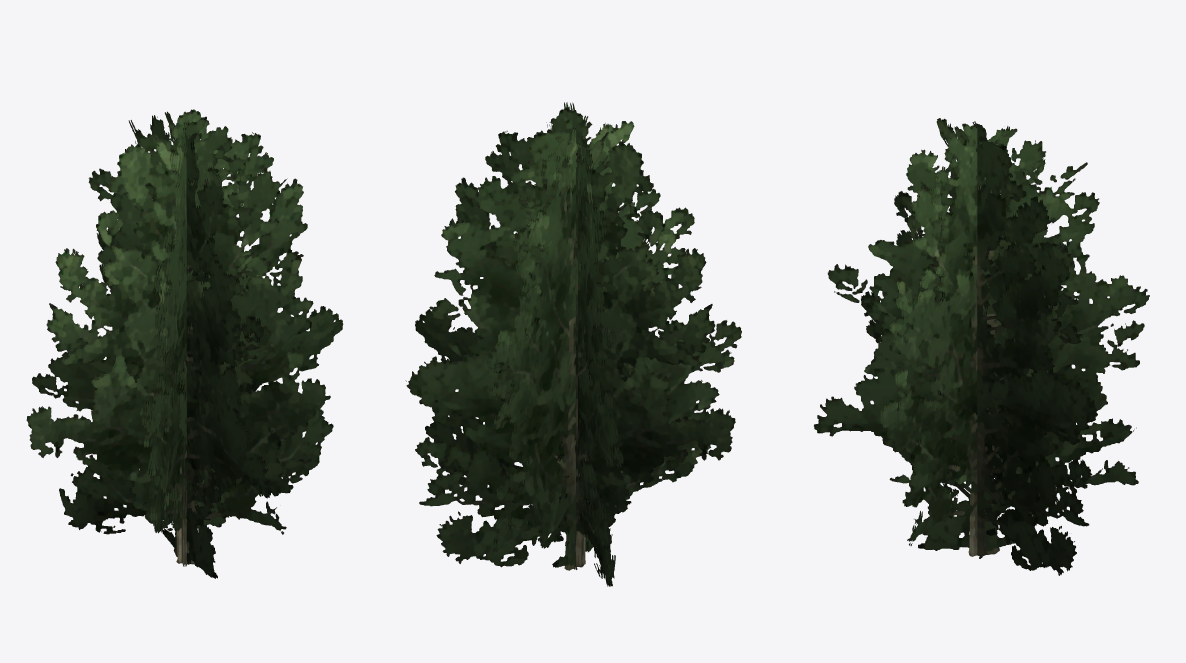
Rendered from Sce_bf_tree02.fbx.
3 renders of one model, left to right at view 1: azimuth 30°, elevation 25°; view 2: azimuth 150°, elevation 25°; view 3: azimuth 270°, elevation 25°, orthographic. The views are drawn at different scales.
Parts seen in each view (by area): view 1: tree02; view 2: tree02; view 3: tree02.
Boxes of the visible parts, left/top/right/bottom form: tree02: left=26, top=109, right=343, bottom=578; tree02: left=405, top=102, right=741, bottom=586; tree02: left=814, top=118, right=1149, bottom=575.
Size of the model in its own units: 15.06 by 19.91 by 14.78.
